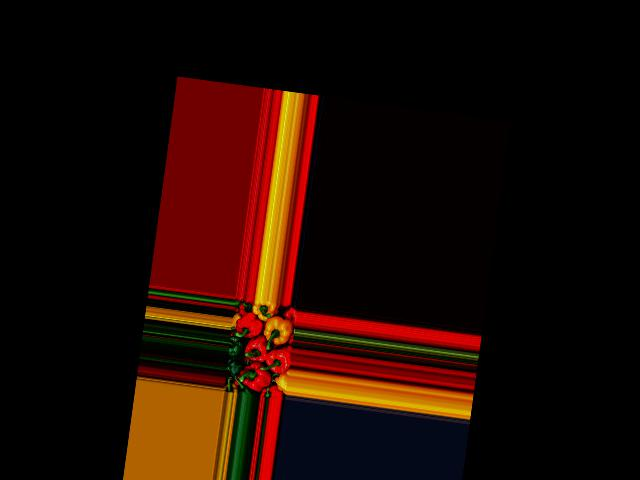bell_pepper: (274, 373, 289, 391)
